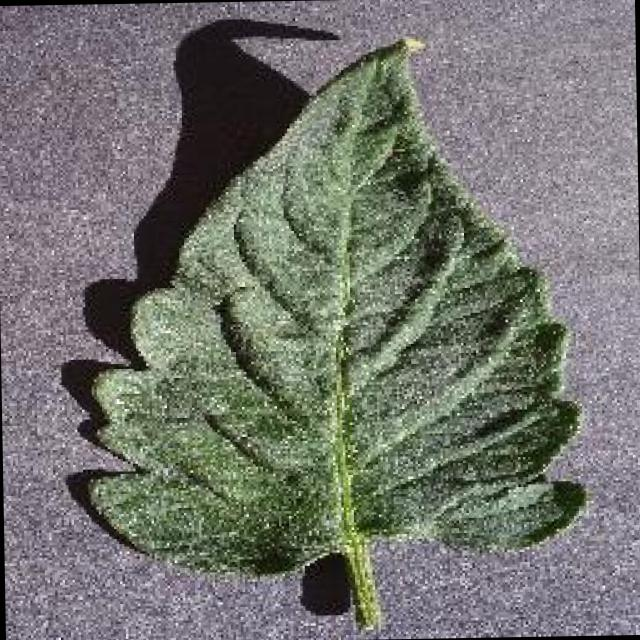Tomato_Healthy: (72, 28, 598, 586)
